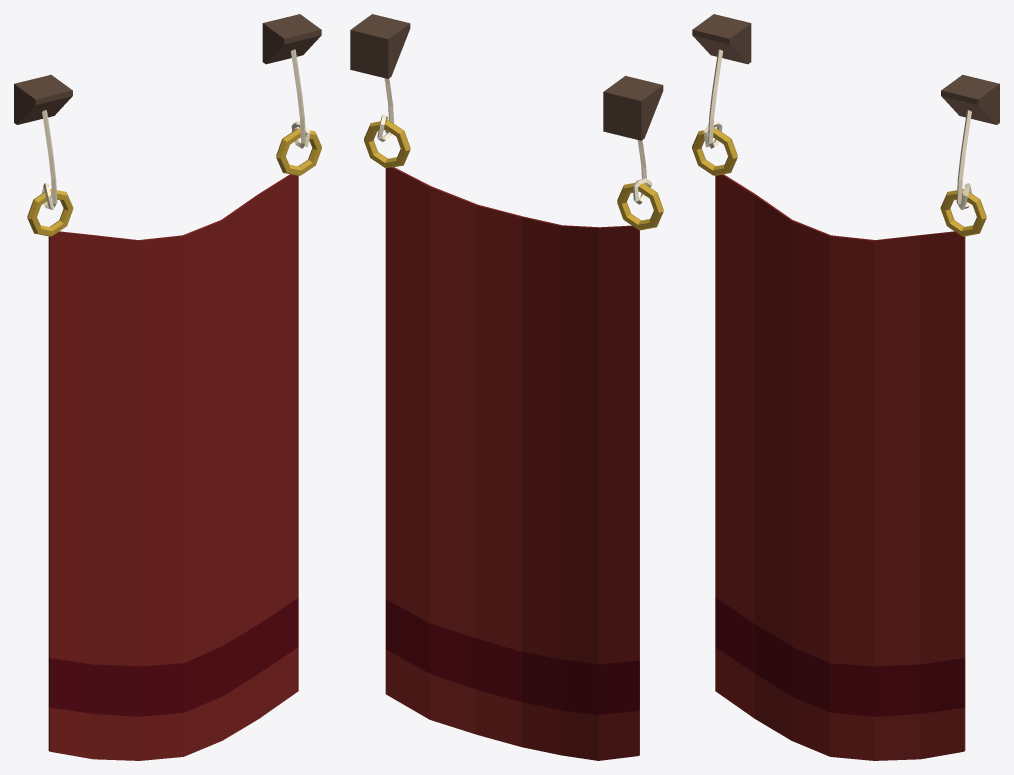
The model's file is Hanging_Flag.fbx.
3 renders of one model, left to right at view 1: azimuth 30°, elevation 25°; view 2: azimuth 150°, elevation 25°; view 3: azimuth 330°, elevation 25°, orthographic.
Visible parts, largest first — view 1: Hanging Flag; view 2: Hanging Flag; view 3: Hanging Flag.
Part boxes in pixels (<box>): Hanging Flag: <box>14,14,321,760</box>; Hanging Flag: <box>350,14,663,760</box>; Hanging Flag: <box>692,14,999,760</box>.
Size of the model in its own units: 237 by 529 by 37.21.
